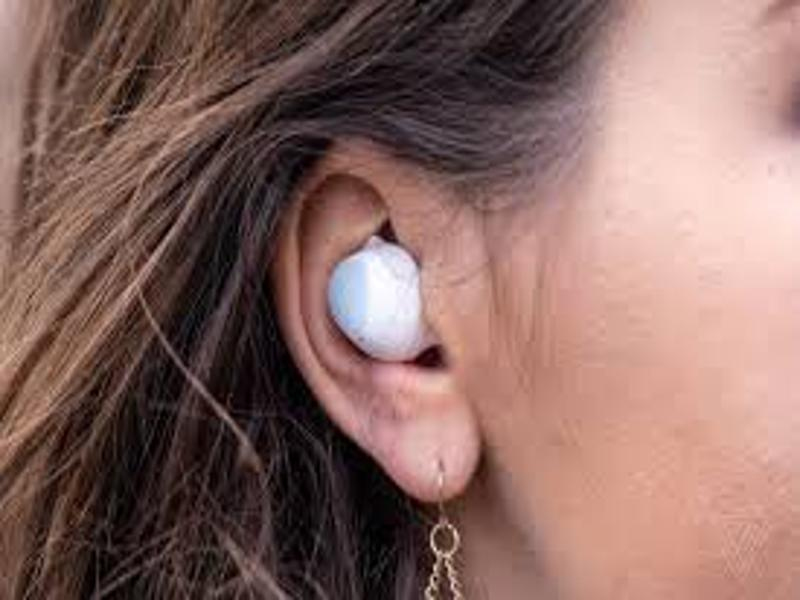headphone: (324, 231, 450, 364)
